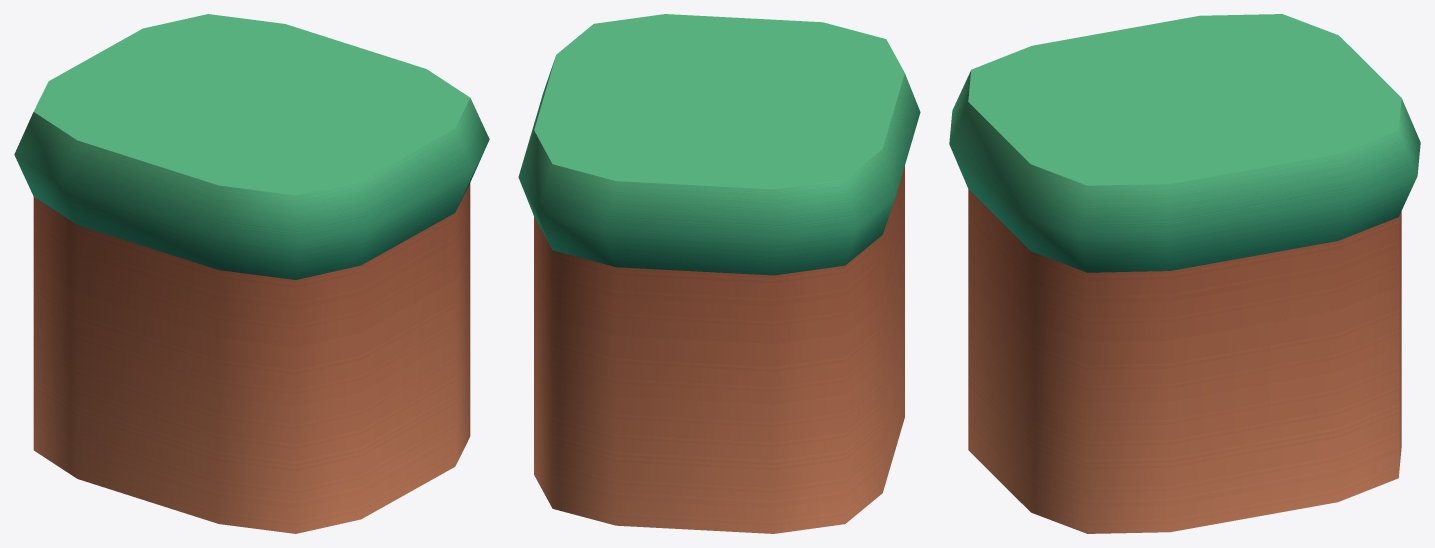
File: block-grass.009_lev2.glb
3 views of the same model, side by side, from view 1: azimuth 30°, elevation 25°; view 2: azimuth 150°, elevation 25°; view 3: azimuth 270°, elevation 25° (orthographic). The views are drawn at different scales.
Visible parts, largest first — view 1: block-grass.009_lev2; view 2: block-grass.009_lev2; view 3: block-grass.009_lev2.
Part boxes in pixels (left/top/right/bottom): block-grass.009_lev2: left=14, top=14, right=489, bottom=533; block-grass.009_lev2: left=518, top=14, right=920, bottom=533; block-grass.009_lev2: left=949, top=14, right=1420, bottom=533.
Size of the model in its own units: 4.28 by 3.72 by 4.56.
Materials: 1 (1 with a texture image).
